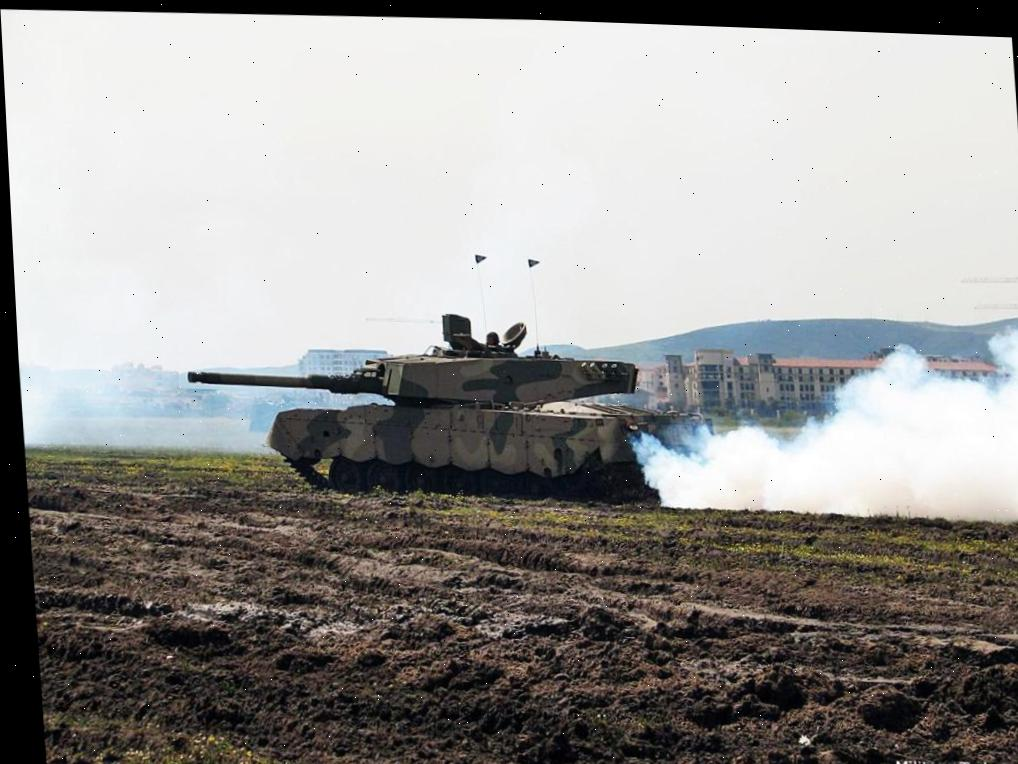tank: (179, 297, 721, 516)
